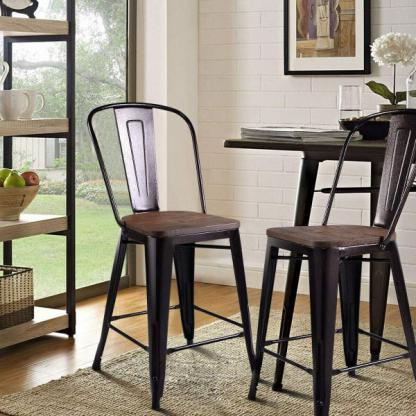chair: (252, 97, 416, 416), (86, 96, 250, 403)
table: (224, 117, 416, 391)
